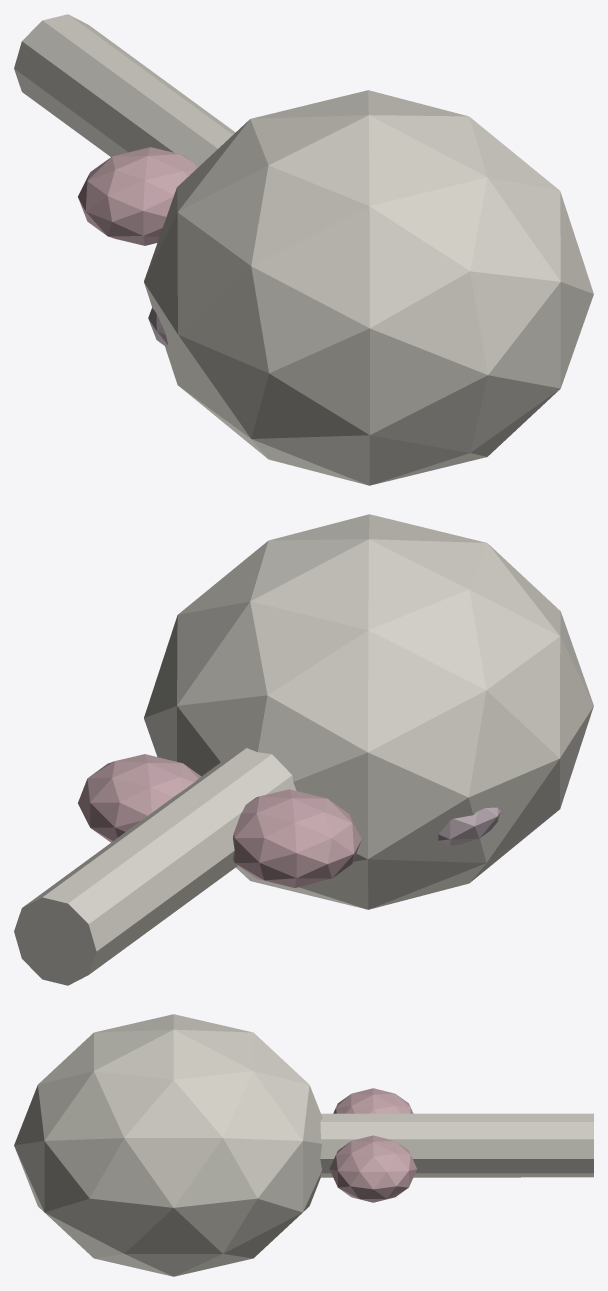
The model's file is head-neck-g3-low.glb.
3 renders of one model, top to bottom at view 1: azimuth 30°, elevation 25°; view 2: azimuth 150°, elevation 25°; view 3: azimuth 270°, elevation 25°, orthographic. The views are drawn at different scales.
Visible parts, largest first — view 1: skull, cervical_spine_proxy, thyroid_left; view 2: skull, cervical_spine_proxy, thyroid_left, thyroid_right, left_cervical_node_proxy; view 3: skull, cervical_spine_proxy, thyroid_right, thyroid_left.
Boxes of the visible parts, x1,y1,x2,y2 form: skull: (144,90,593,485); cervical_spine_proxy: (14,14,235,167); thyroid_left: (78,147,196,245); skull: (144,514,593,909); cervical_spine_proxy: (14,748,296,985); thyroid_left: (233,789,361,887); thyroid_right: (78,754,201,842); left_cervical_node_proxy: (438,807,500,845); skull: (14,1014,322,1276); cervical_spine_proxy: (320,1113,593,1177); thyroid_right: (329,1135,416,1202); thyroid_left: (333,1088,413,1113).
Size of the model in its own units: 1.48 by 1.28 by 2.9.
